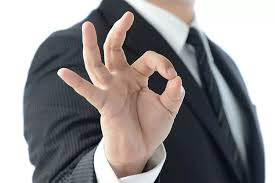hand: (57, 10, 186, 160)
